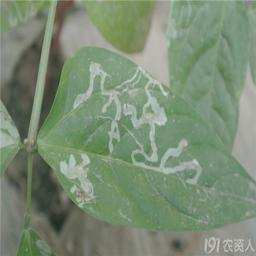liriomyza: (73, 58, 201, 186), (59, 151, 98, 209)
